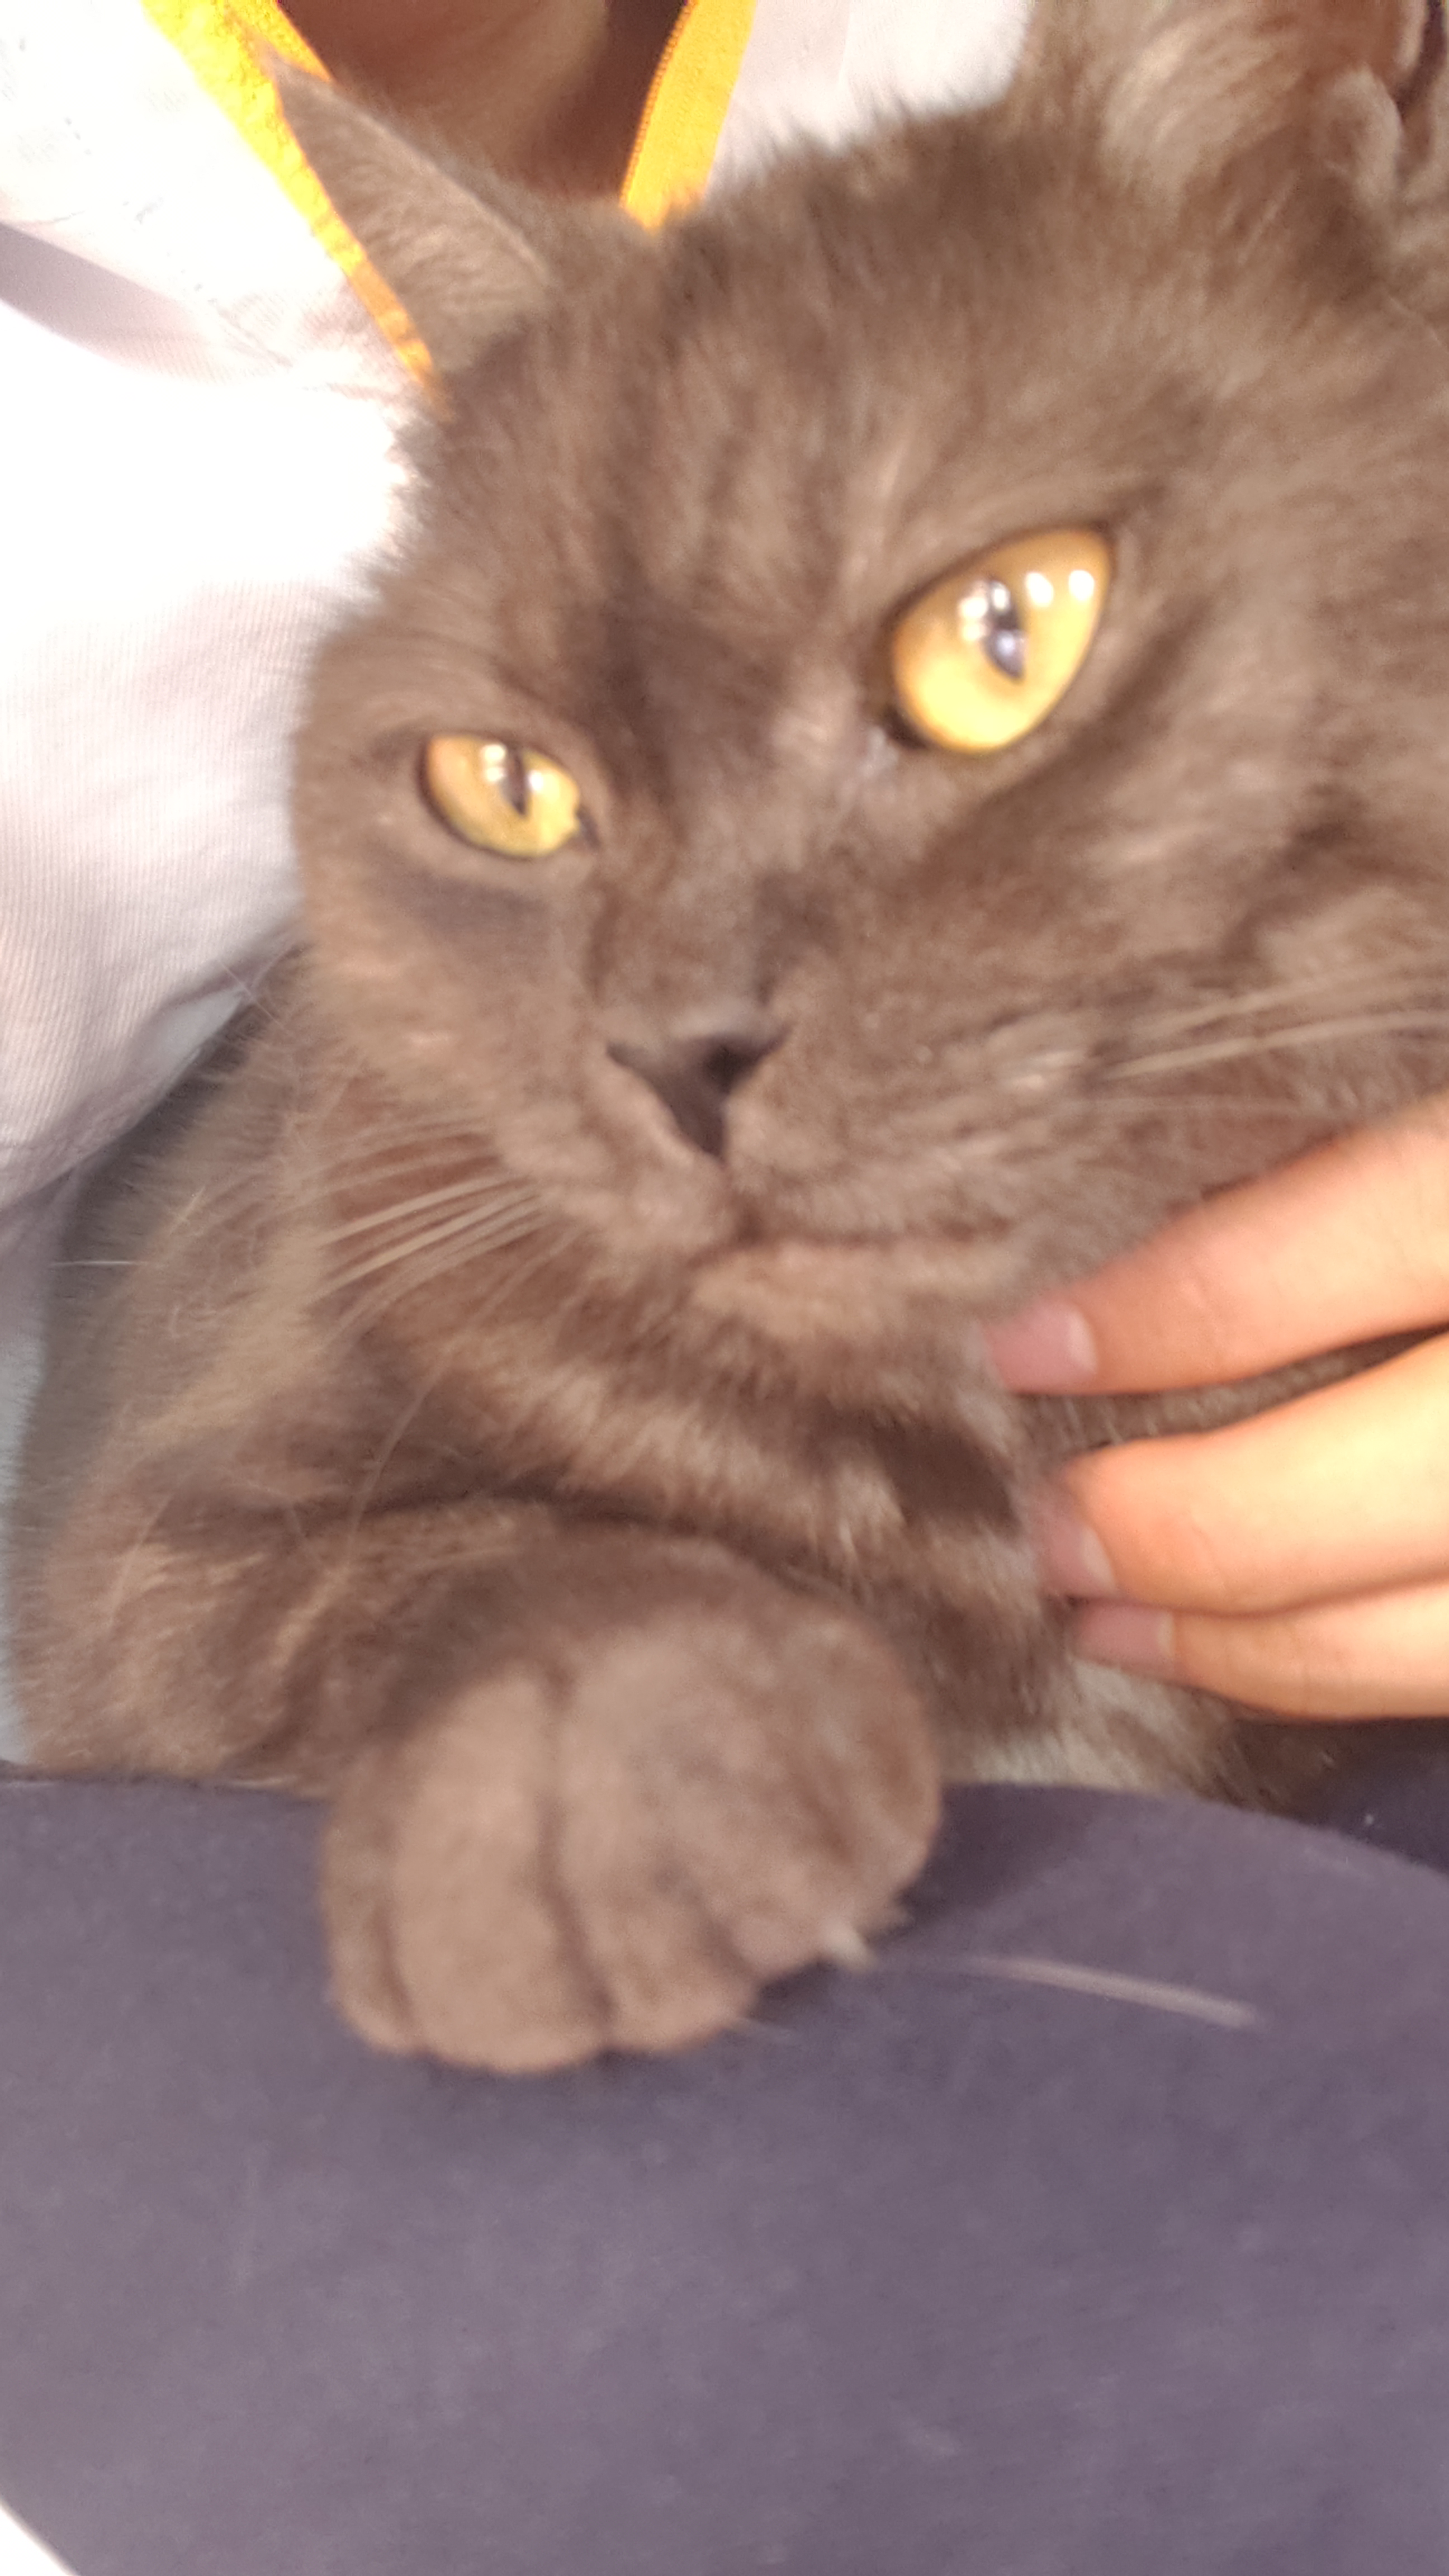black: (228, 87, 1364, 1930)
